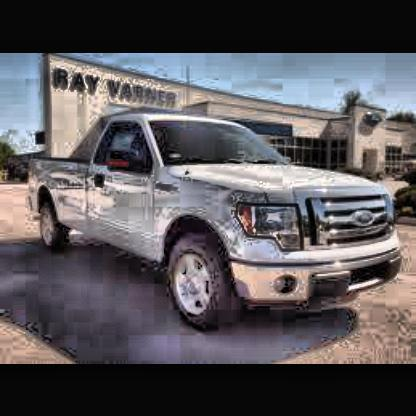Ford F-150 Regular Cab 2012: (29, 111, 406, 332)
